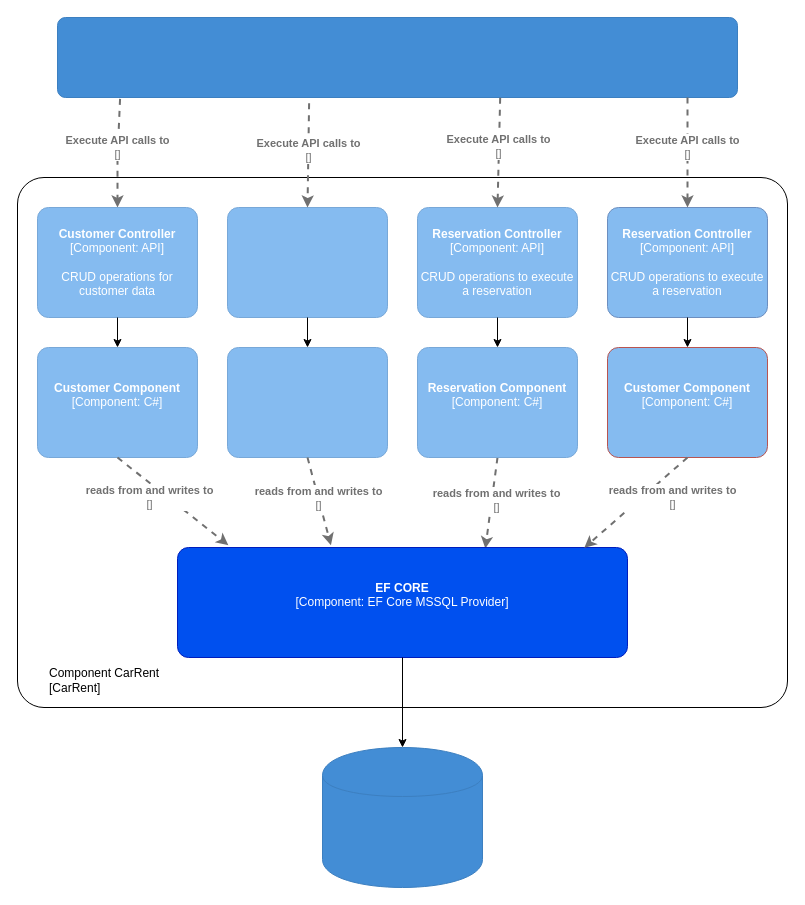
This 805x905 diagram has some shape labels left out. The shapes that lost their labels are listed below. From the top down, each one's centre as x and y in pixels, then its label:
[397,57]: ISS Windows [Container: WebServer]
[307,262]: Car Controller [Component: API] CRUD operations for car data
[307,402]: Car Component [Component: C#]
[402,817]: Database [Container: SQL] Saves customer data, car infos and reservations
